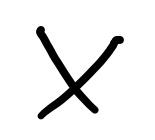mult: (33, 24, 124, 121)
